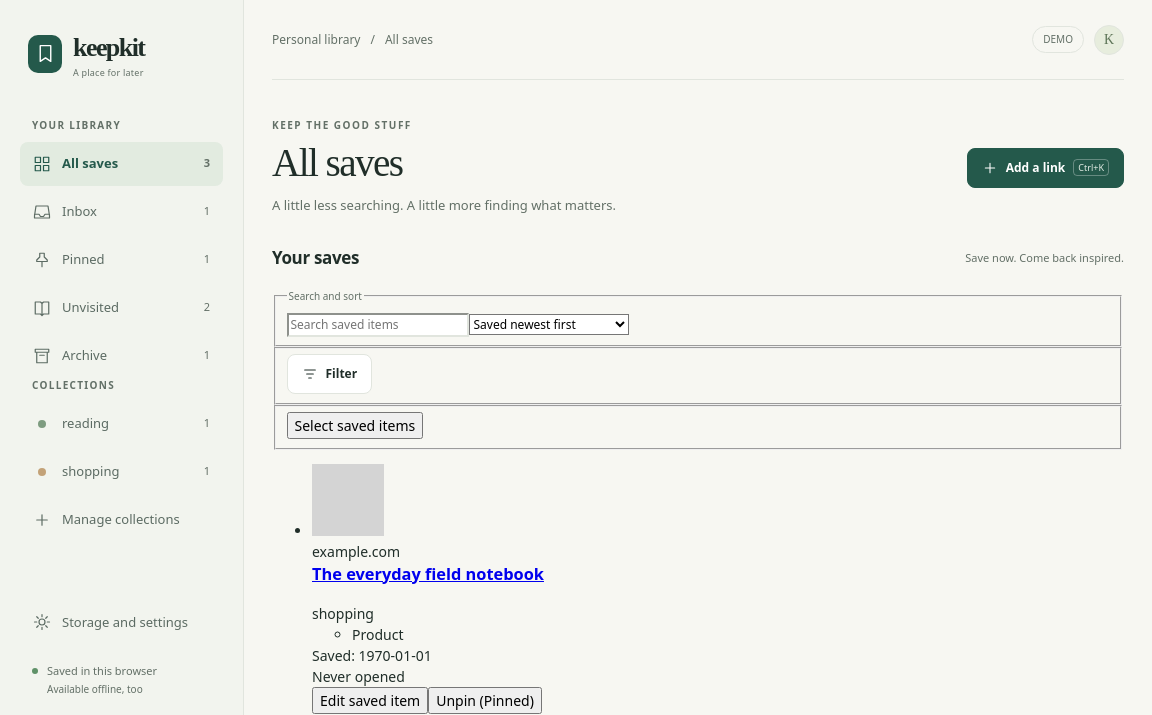
Scenario: navigates the Inbox, pinned, unread, archive, and collection scopes
The width and height of the screenshot is (1152, 715).
Expected: the link "The everyday field notebook" is shown, [312, 563, 544, 585]
Expected: the text "Archived reference" is not shown
Click the button "Inbox 1" at (122,212), box [20, 190, 223, 234]
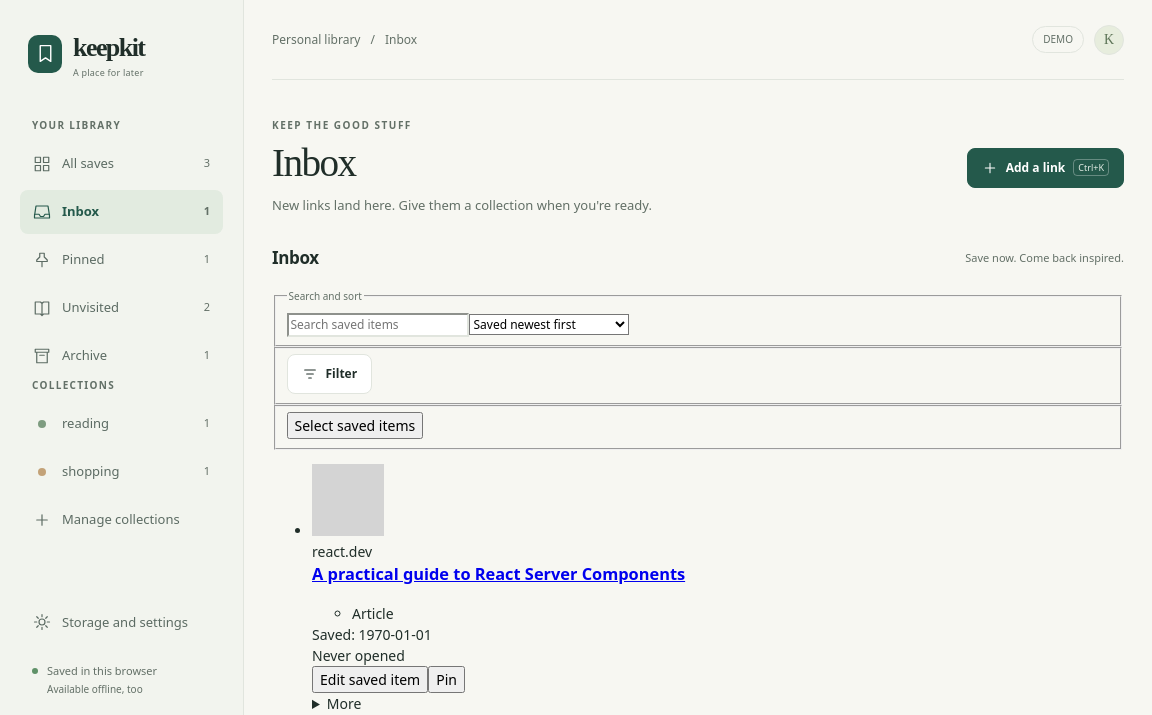
Expected: the link "A practical guide to React Server Components" is shown, [312, 563, 685, 585]
Expected: the link "The everyday field notebook" is gone
Click the button "Pinned 1" at (122,260), box [20, 238, 223, 282]
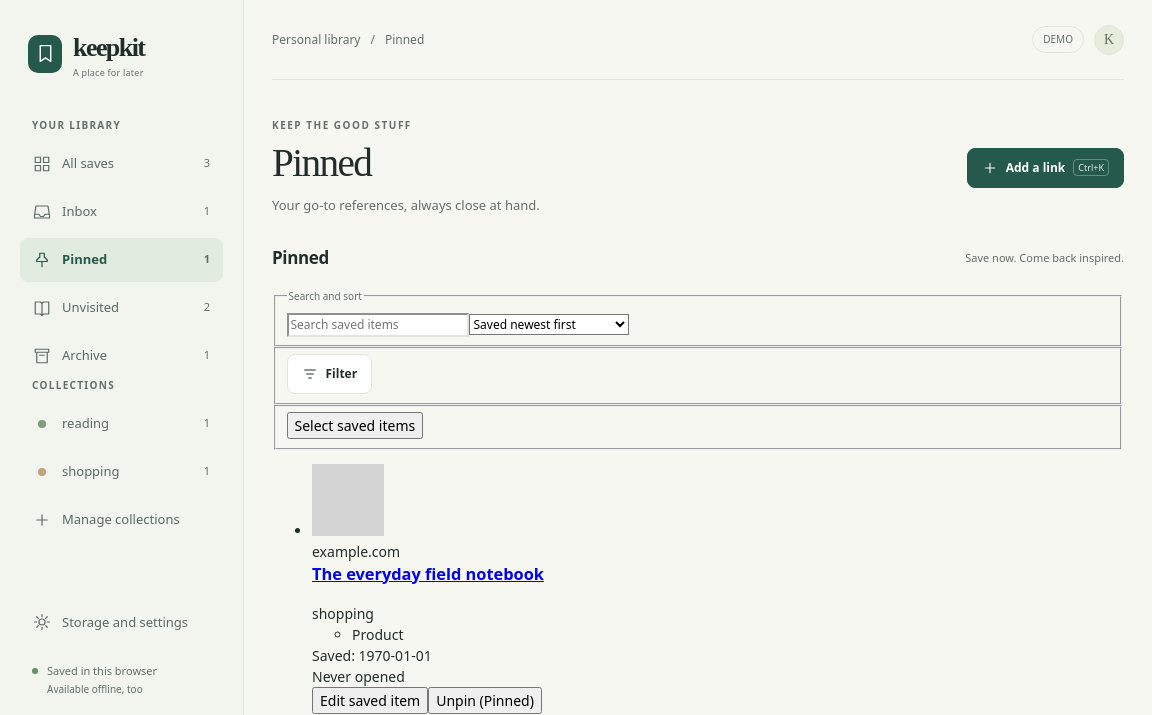
Expected: the text "Archived reference" is not shown
Expected: the link "The everyday field notebook" is shown, [312, 563, 544, 585]
Expected: the link "A practical guide to React Server Components" is gone
Click the button "Unvisited 2" at (122,308), box [20, 286, 223, 330]
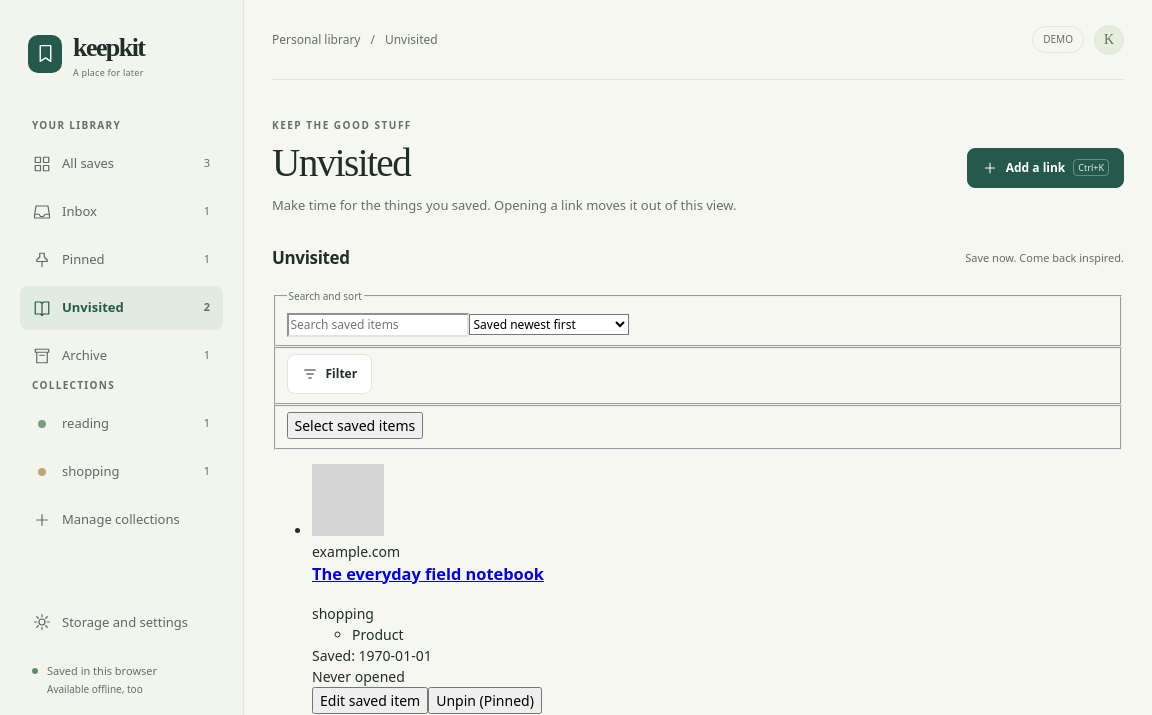
Expected: the link "The everyday field notebook" is shown, [312, 563, 544, 585]
Click the button "Archive 1" at (122,356), box [20, 334, 223, 378]
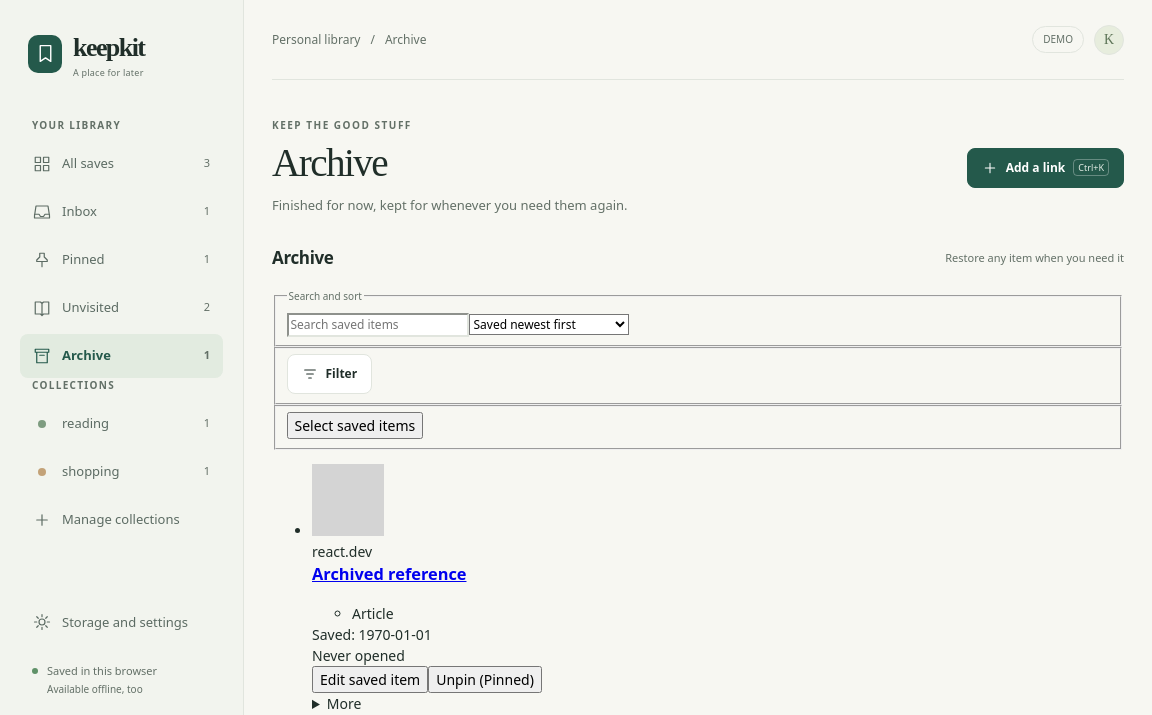
Expected: the link "Archived reference" is shown, [312, 563, 466, 585]
Expected: the link "The everyday field notebook" is gone
Click the button "shopping 1" at (122,472), box [20, 450, 223, 494]
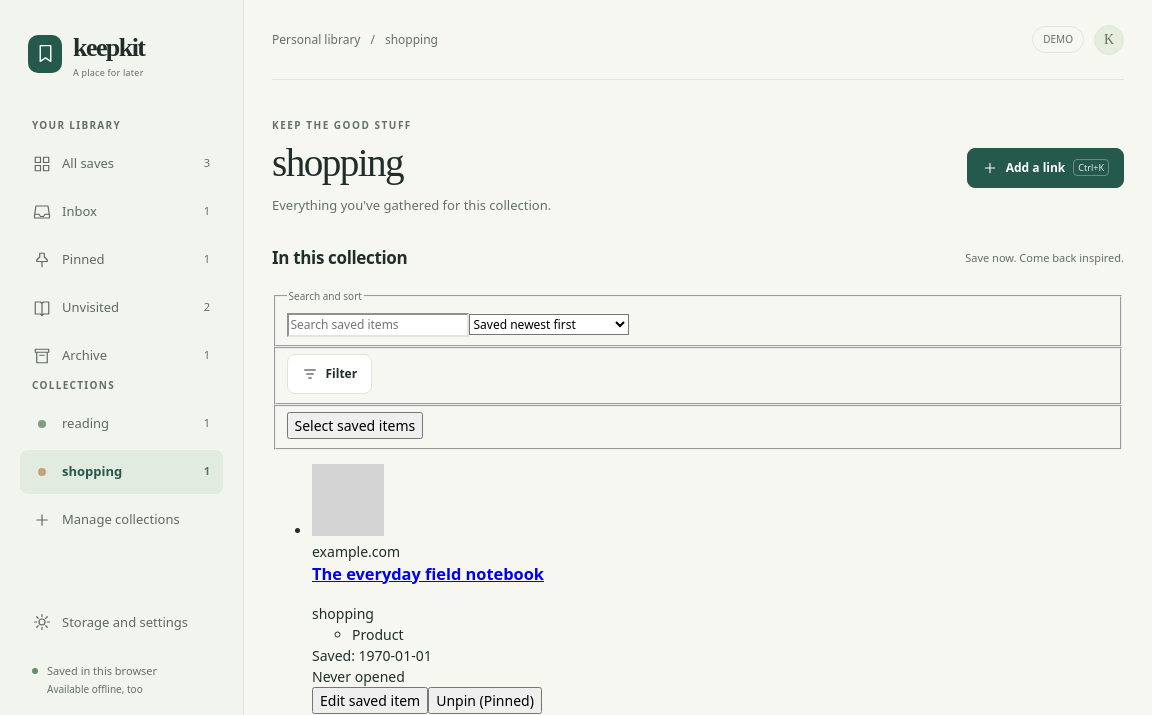
Expected: the link "The everyday field notebook" is shown, [312, 563, 544, 585]
Expected: the link "Archived reference" is gone
